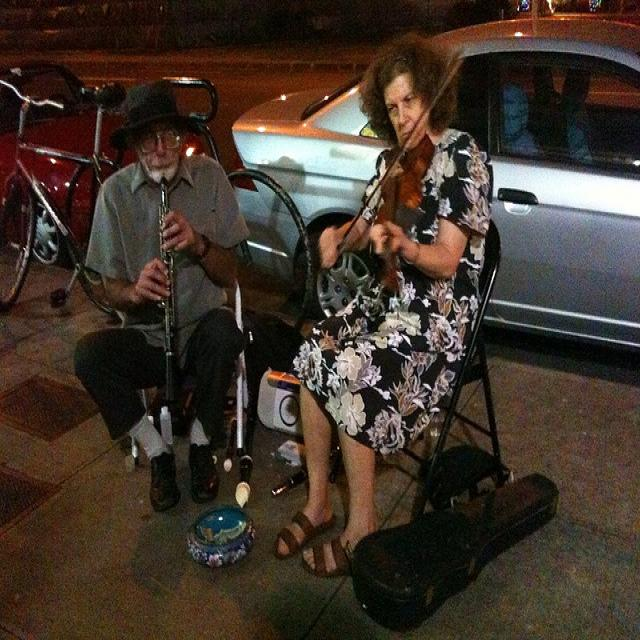clarinet: (158, 174, 179, 403)
violin: (372, 129, 437, 238)
